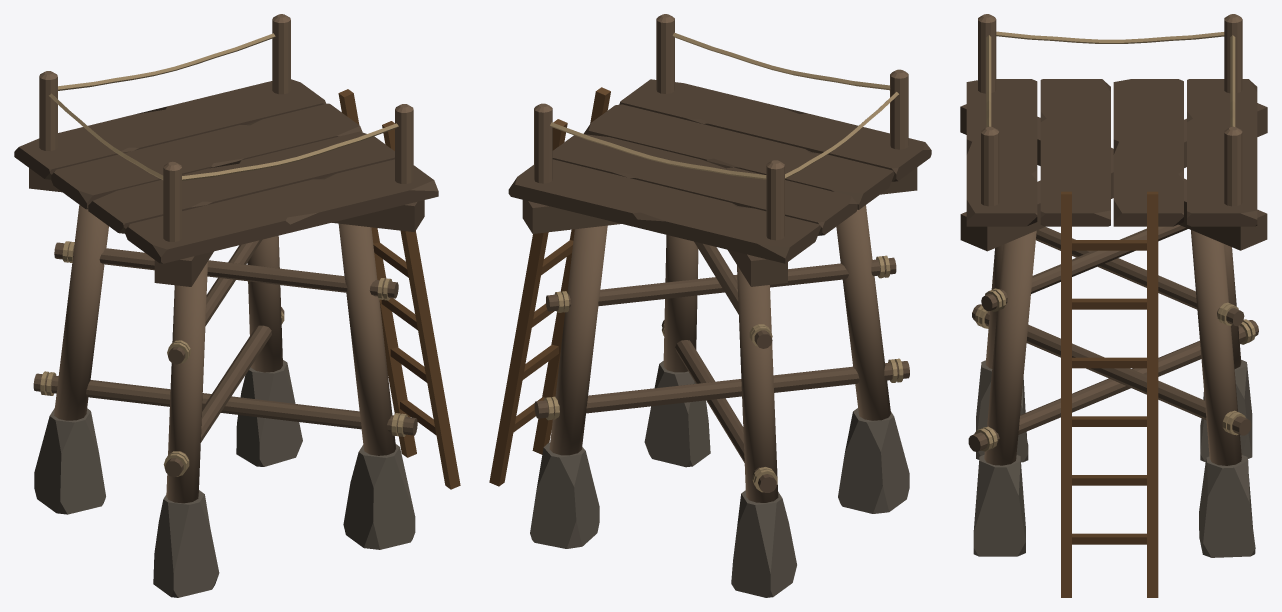
The model's file is tower_1.glb.
3 renders of one model, left to right at view 1: azimuth 30°, elevation 25°; view 2: azimuth 150°, elevation 25°; view 3: azimuth 270°, elevation 25°, orthographic.
Visible parts, largest first — view 1: Cube.010, Cube.008, Cube.007, Cube.009, Cylinder.002, Cylinder.004, Cylinder.003, Cube.005, Cube.003, Cube.004, Cylinder.008, Cube.006 (+16 smaller); view 2: Cube.007, Cube.009, Cube.010, Cube.008, Cylinder.001, Cylinder.003, Cylinder.004, Cube.004, Cube.006, Cylinder.007, Cube.003, Cube (+16 smaller); view 3: Cube.009, Cube.008, Cube.010, Cube.007, Cylinder.002, Cylinder.001, Cube.012, Cube, Cube.006, Cube.005, Cube.011, Cylinder.008 (+16 smaller).
Part boxes in pixels (left/top/right/bottom): Cube.010: left=125, top=159, right=438, bottom=263; Cube.008: left=51, top=103, right=362, bottom=209; Cube.007: left=14, top=79, right=325, bottom=179; Cube.009: left=88, top=131, right=394, bottom=233; Cylinder.002: left=338, top=223, right=395, bottom=455; Cylinder.004: left=54, top=205, right=108, bottom=420; Cylinder.003: left=166, top=261, right=207, bottom=503; Cube.005: left=343, top=444, right=415, bottom=549; Cube.003: left=34, top=408, right=105, bottom=514; Cube.004: left=153, top=490, right=219, bottom=597; Cylinder.008: left=33, top=371, right=417, bottom=436; Cube.006: left=236, top=360, right=302, bottom=466; Cube.007: left=508, top=159, right=820, bottom=263; Cube.009: left=583, top=104, right=894, bottom=209; Cube.010: left=619, top=79, right=931, bottom=181; Cube.008: left=552, top=134, right=857, bottom=235; Cylinder.001: left=549, top=225, right=607, bottom=455; Cylinder.003: left=836, top=205, right=890, bottom=420; Cylinder.004: left=737, top=265, right=778, bottom=502; Cube.004: left=838, top=408, right=909, bottom=513; Cube.006: left=530, top=442, right=599, bottom=548; Cylinder.007: left=534, top=358, right=909, bottom=420; Cube.003: left=731, top=490, right=796, bottom=597; Cube: left=489, top=119, right=567, bottom=486; Cube.009: left=1040, top=79, right=1110, bottom=226; Cube.008: left=1113, top=79, right=1183, bottom=226; Cube.010: left=966, top=79, right=1037, bottom=226; Cube.007: left=1187, top=79, right=1257, bottom=226; Cylinder.002: left=984, top=230, right=1036, bottom=465; Cylinder.001: left=1191, top=230, right=1241, bottom=465; Cube.012: left=1072, top=240, right=1146, bottom=544; Cube: left=1147, top=191, right=1158, bottom=597; Cube.006: left=1199, top=455, right=1255, bottom=557; Cube.005: left=973, top=454, right=1025, bottom=556; Cube.011: left=1061, top=191, right=1071, bottom=597; Cylinder.008: left=968, top=319, right=1258, bottom=451.
Size of the model in its own units: 9.78 by 11.59 by 7.56.
